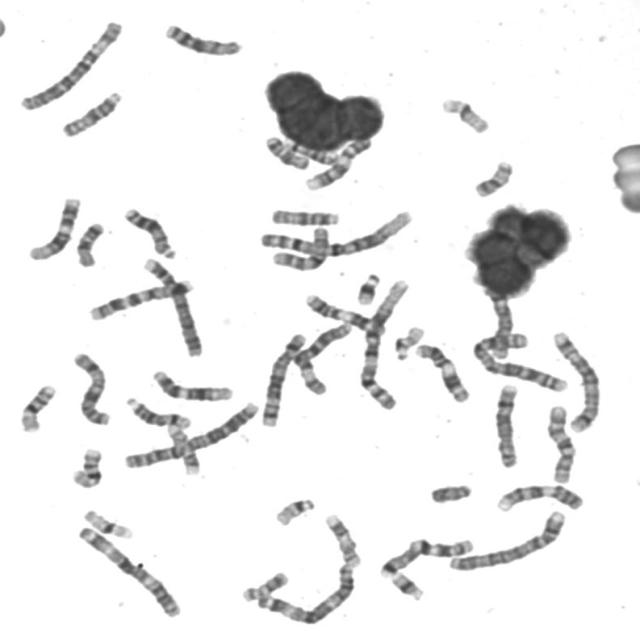A1: (259, 206, 417, 260), (355, 274, 413, 412)
A2: (118, 398, 261, 471), (467, 329, 570, 394)
A3: (73, 522, 184, 620), (253, 560, 358, 626)
B4: (445, 506, 568, 574), (139, 254, 205, 359)
B5: (548, 328, 604, 434), (257, 328, 309, 428)
C10: (266, 222, 332, 273), (543, 401, 578, 485)
C11: (301, 289, 391, 337), (411, 340, 472, 405)
C12: (24, 193, 83, 262), (147, 366, 235, 403)
C6: (15, 15, 125, 113), (289, 319, 353, 396)
C7: (84, 274, 195, 323), (374, 534, 477, 579)
C8: (491, 379, 521, 470), (481, 287, 516, 360)
C9: (302, 135, 373, 192), (492, 480, 587, 514)
D13: (120, 203, 178, 261), (160, 20, 244, 58)
D14: (122, 393, 194, 430), (282, 136, 340, 166)
D15: (58, 88, 124, 138), (268, 206, 342, 227)
E16: (15, 380, 59, 434), (67, 444, 105, 489)
E17: (321, 509, 363, 568), (162, 420, 201, 477)
E18: (262, 132, 312, 172), (72, 218, 106, 269)
F19: (437, 94, 492, 135), (79, 506, 136, 540)
F20: (470, 156, 516, 200), (238, 568, 291, 603)
G21: (387, 568, 427, 603), (352, 270, 382, 306)
G22: (270, 494, 318, 528), (390, 322, 428, 362)
X: (69, 348, 112, 427)
Y: (426, 480, 474, 505)
